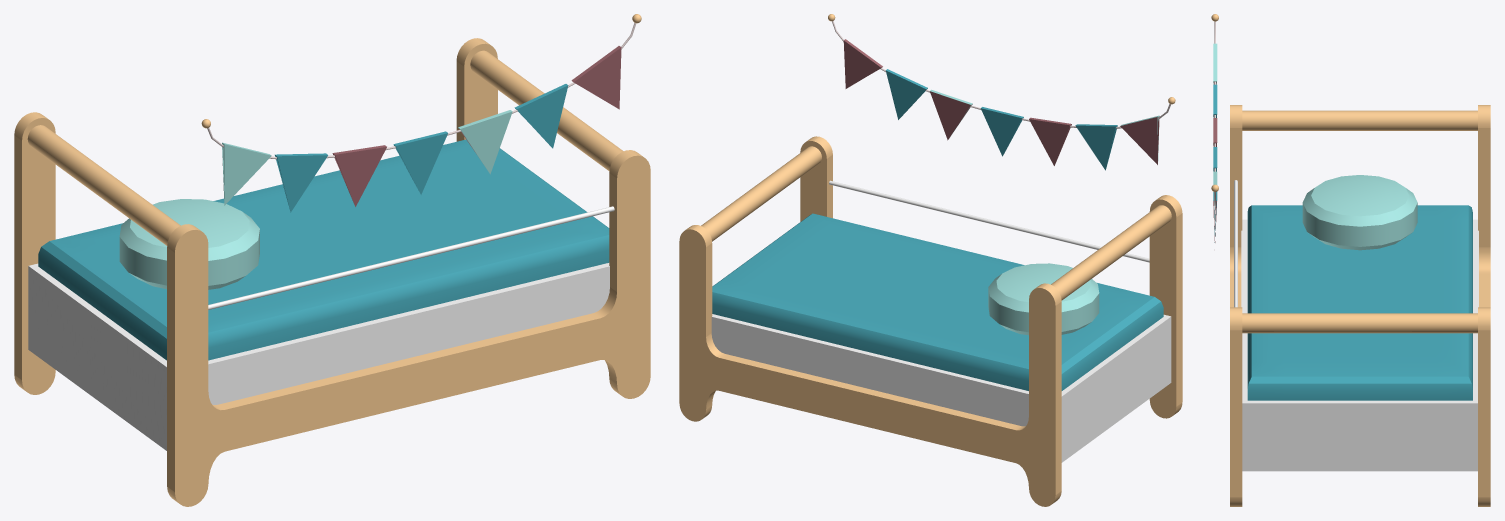
The model's file is Furn4_bed_color2.fbx.
The picture shows the model from 3 angles, left to right: view 1: azimuth 30°, elevation 25°; view 2: azimuth 150°, elevation 25°; view 3: azimuth 270°, elevation 25°; orthographic projection. The views are drawn at different scales.
Parts seen in each view (by area): view 1: Куб.001; view 2: Куб.001; view 3: Куб.001.
Boxes of the visible parts, x1,y1,x2,y2 form: Куб.001: (14,14,650,506); Куб.001: (679,14,1182,506); Куб.001: (1211,14,1490,506).
Bounding box in the file's own units: 390 × 307 × 244.
